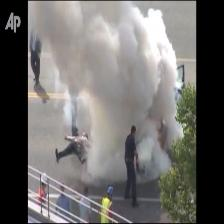smoke: (32, 0, 177, 117), (93, 118, 125, 181)
